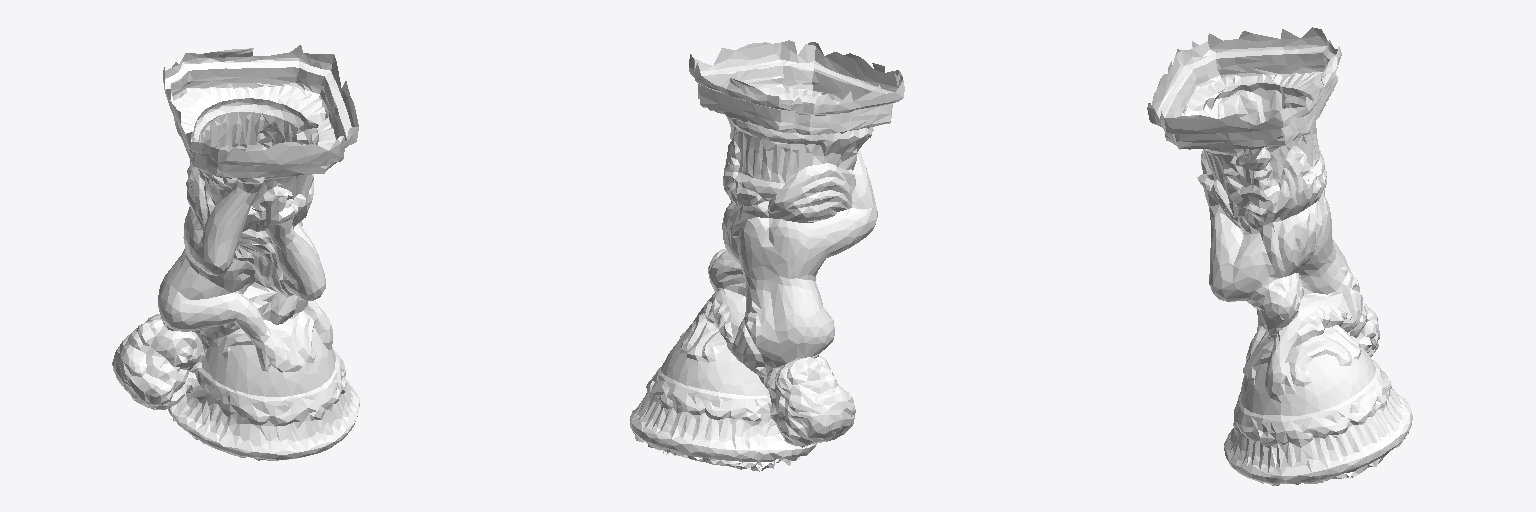
Rendered from angel_10k.obj.
The picture shows the model from 3 angles: view 1: azimuth 30°, elevation 25°; view 2: azimuth 150°, elevation 25°; view 3: azimuth 270°, elevation 25°; orthographic projection.
Bounding box in the file's own units: 1.1 × 1.86 × 1.16.